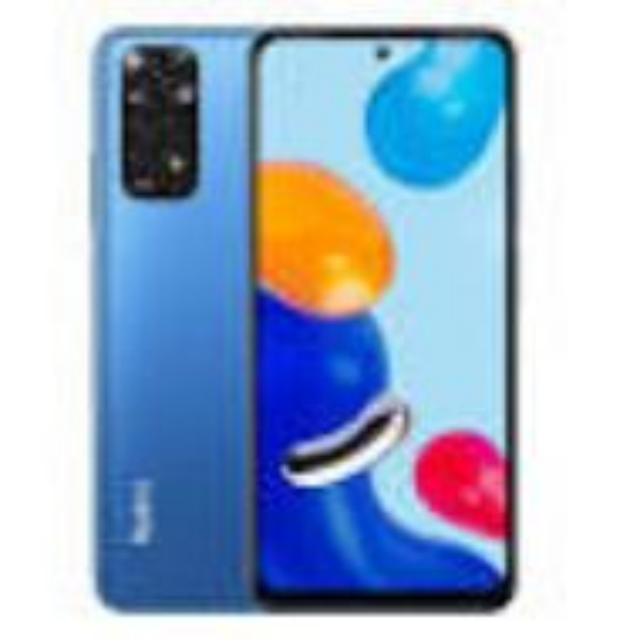PhoneUse: (262, 19, 520, 615), (95, 24, 249, 610)
